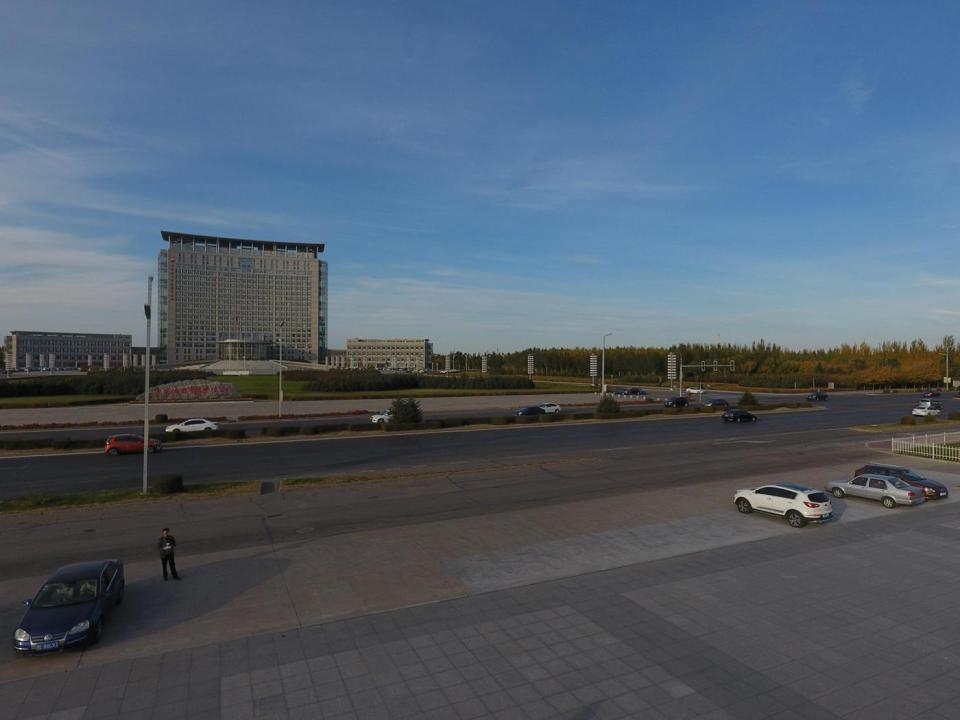car: (13, 558, 125, 658), (734, 482, 834, 527), (853, 462, 948, 501), (824, 473, 926, 509), (103, 433, 162, 457), (164, 418, 219, 434), (370, 409, 407, 425), (720, 409, 758, 423), (513, 406, 546, 420), (910, 404, 942, 417), (663, 396, 690, 409), (702, 397, 730, 409), (533, 402, 562, 413), (806, 390, 829, 402), (922, 389, 943, 399), (685, 386, 706, 394), (612, 387, 631, 395), (628, 387, 646, 395)
van: (918, 398, 944, 411)
